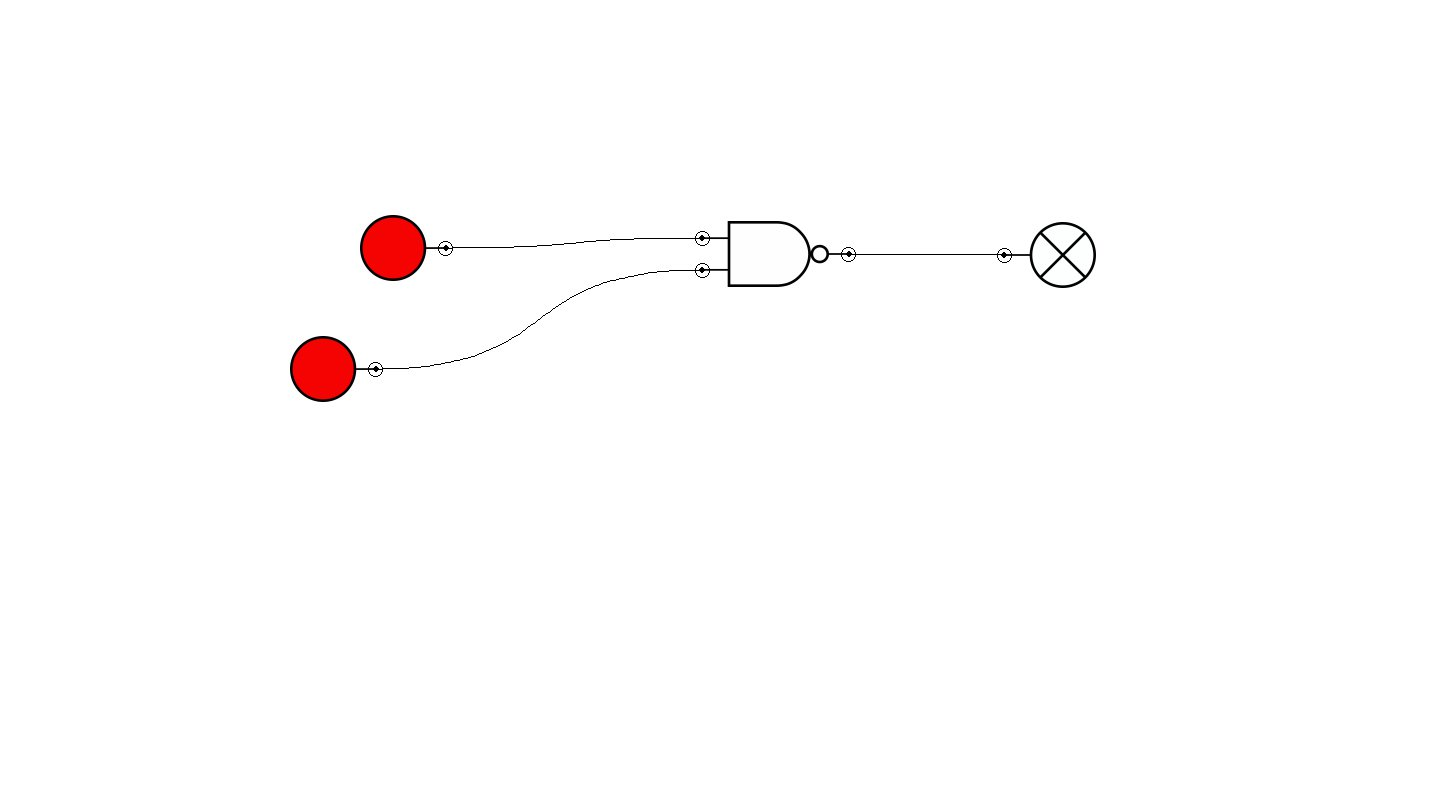bulb: (997, 222, 1096, 288)
nand: (695, 221, 856, 287)
switch_False: (290, 336, 383, 402), (360, 215, 453, 281)
